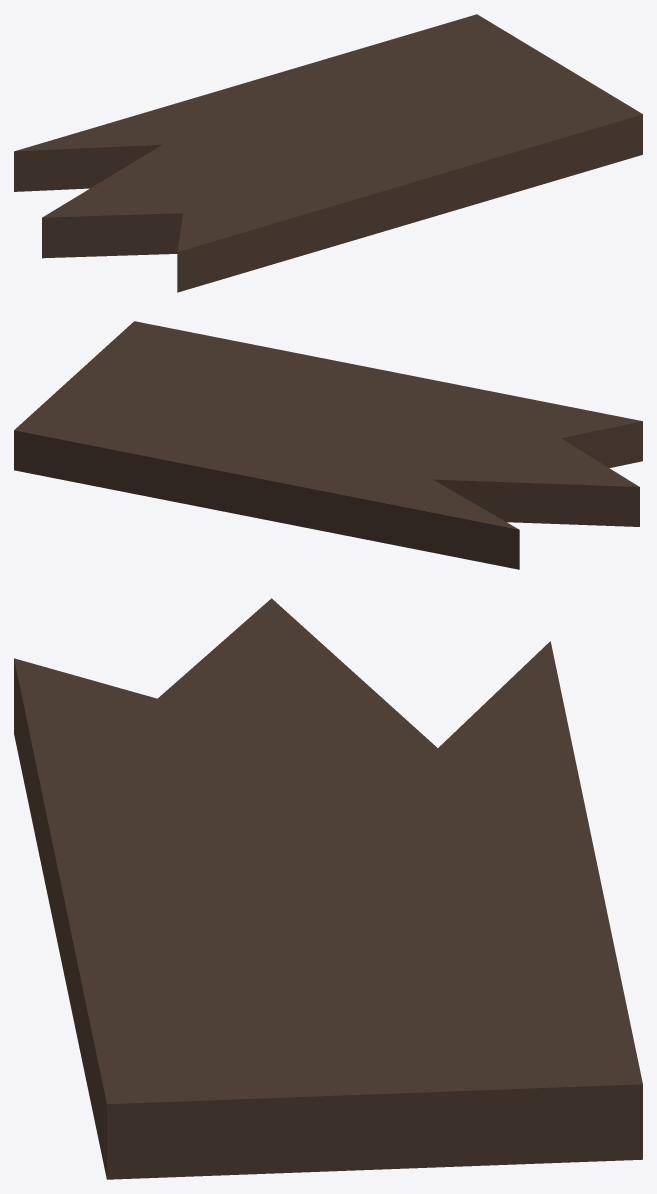
Rendered from Board Broken.fbx.
The picture shows the model from 3 angles, top to bottom: view 1: azimuth 30°, elevation 25°; view 2: azimuth 150°, elevation 25°; view 3: azimuth 270°, elevation 25°; orthographic projection. The views are drawn at different scales.
Parts seen in each view (by area): view 1: Board Broken; view 2: Board Broken; view 3: Board Broken.
Part boxes in pixels (x1,y1,x2,y2): Board Broken: (14, 14, 642, 292); Board Broken: (14, 321, 642, 569); Board Broken: (14, 598, 642, 1179).
Bounding box in the file's own units: 77.6 × 40.77 × 5.4.
